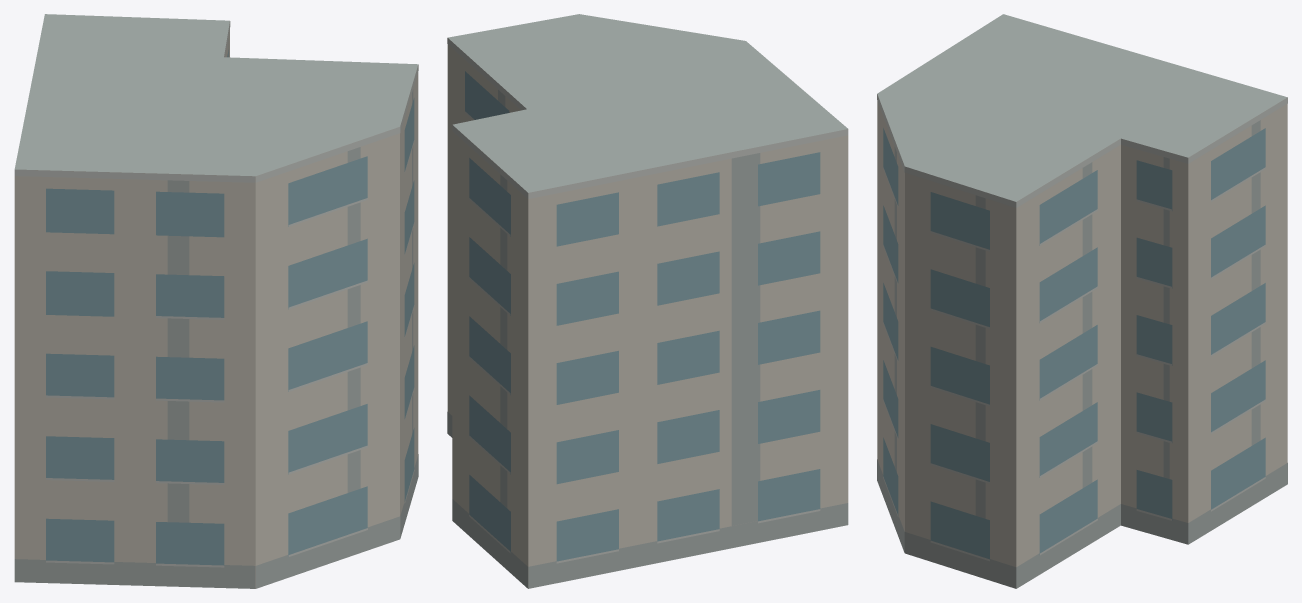
The model's file is survey-upis-32739232.glb.
The picture shows the model from 3 angles, left to right: view 1: azimuth 30°, elevation 25°; view 2: azimuth 150°, elevation 25°; view 3: azimuth 270°, elevation 25°; orthographic projection. The views are drawn at different scales.
Visible parts, largest first — view 1: survey-upis-32739232.tmp; view 2: survey-upis-32739232.tmp; view 3: survey-upis-32739232.tmp.
Part boxes in pixels (x1,y1,x2,y2): survey-upis-32739232.tmp: (14,14,418,588); survey-upis-32739232.tmp: (447,14,848,588); survey-upis-32739232.tmp: (877,14,1287,588).
Bounding box in the file's own units: 15.89 × 15.25 × 14.67.
